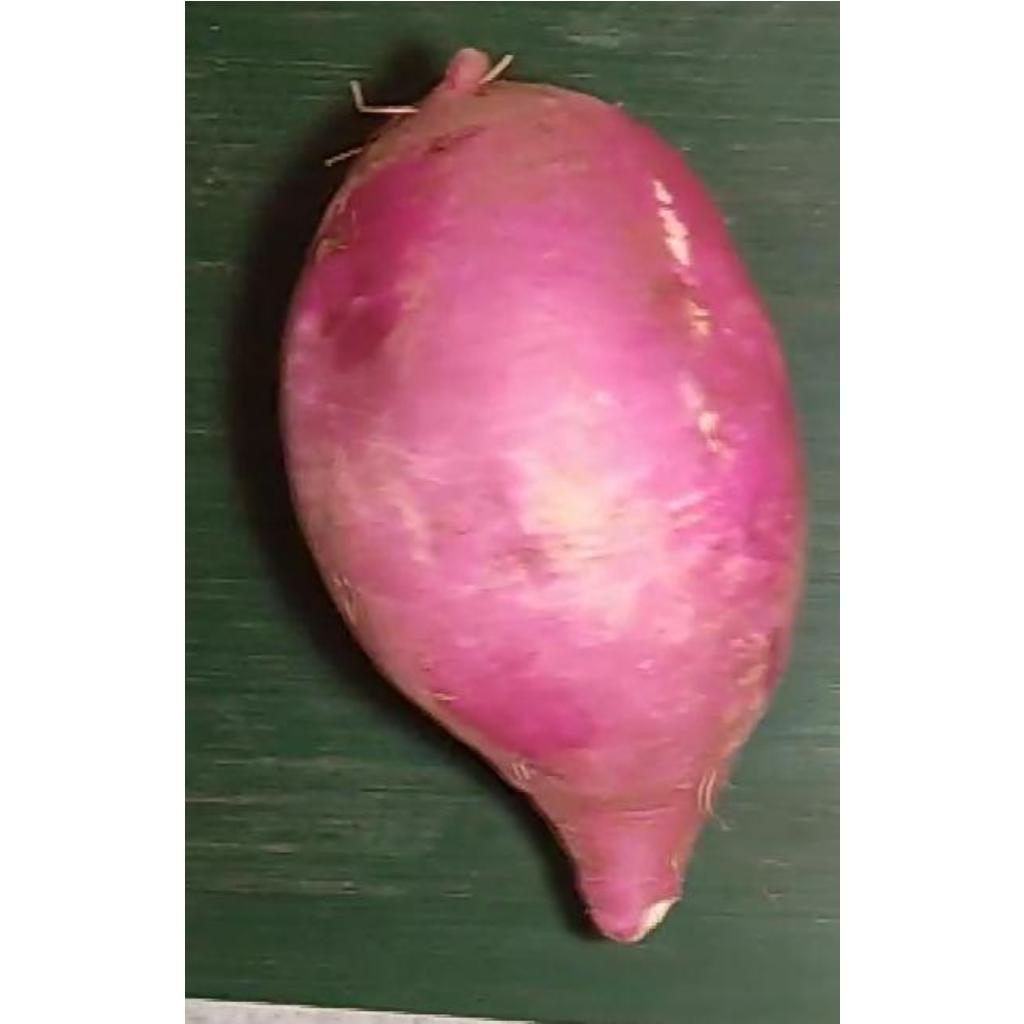Sweet Potato: (276, 49, 806, 948)
